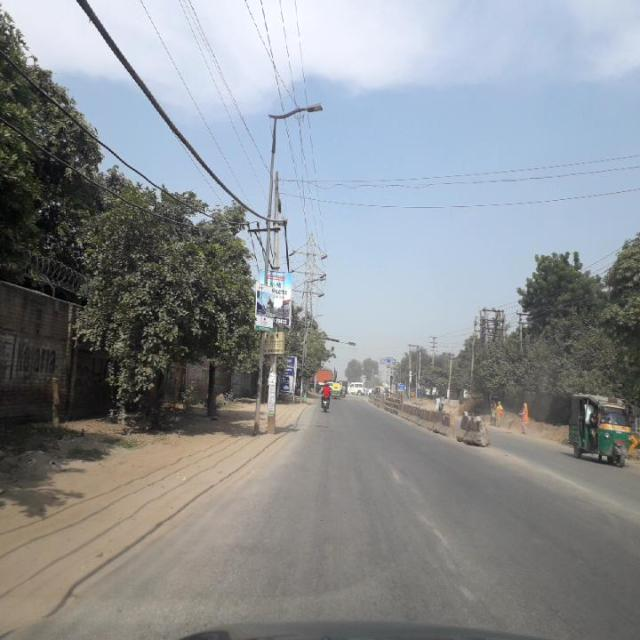D00: (391, 467, 452, 558)
